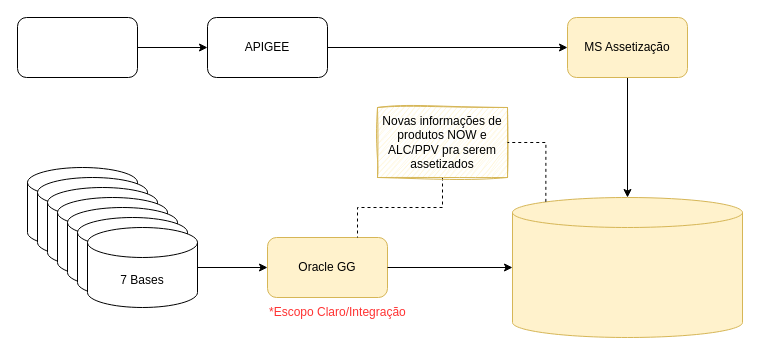
Image size: 760x355. Some labels were removed from this diagram. Each missing label, with the centre of its shape:
ODS: (x=627, y=267)
Solar: (x=77, y=47)
